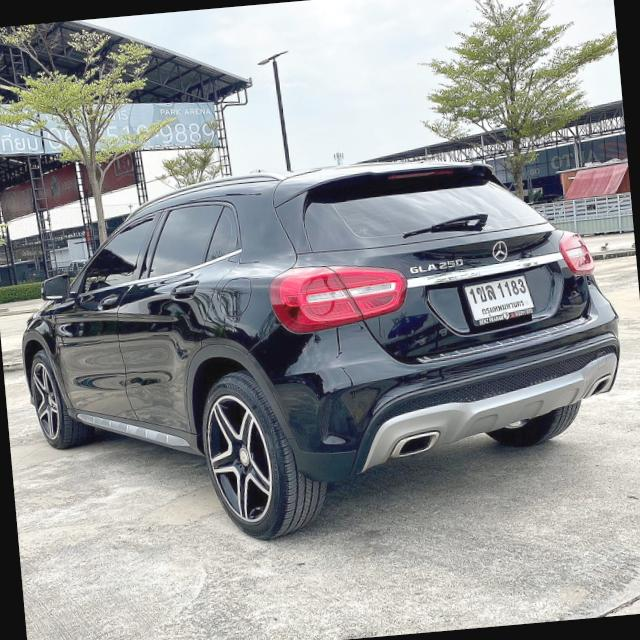license_plate: (456, 268, 539, 330)
